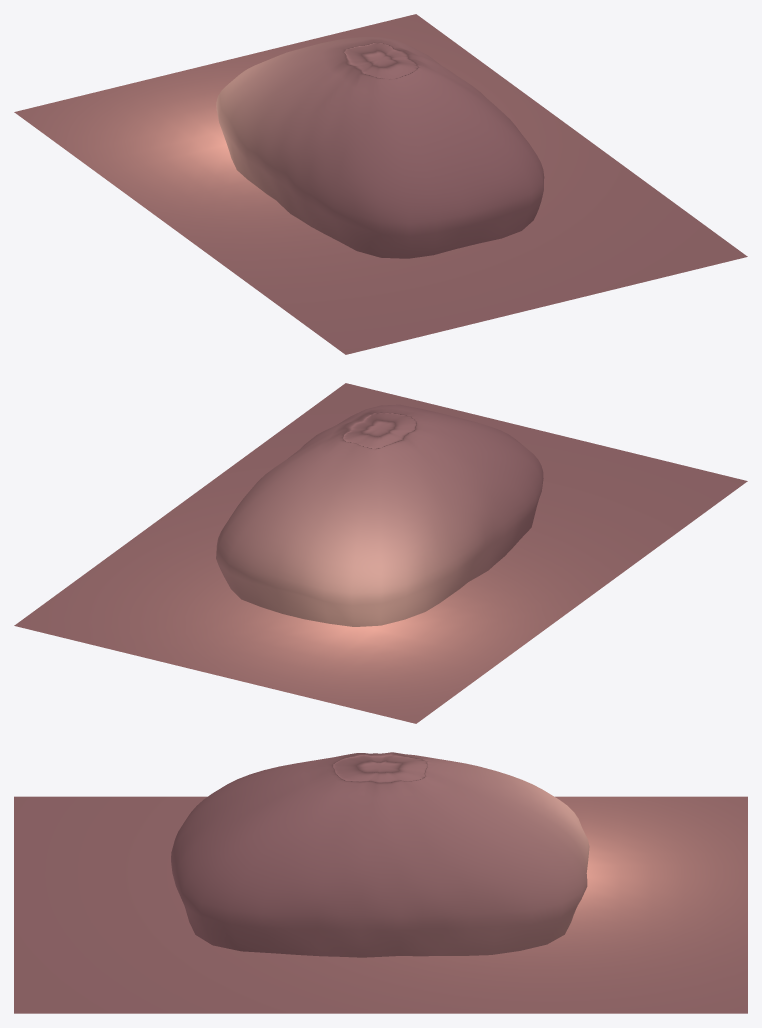
The model's file is env.glb.
The picture shows the model from 3 angles, top to bottom: view 1: azimuth 30°, elevation 25°; view 2: azimuth 150°, elevation 25°; view 3: azimuth 270°, elevation 25°; orthographic projection. The views are drawn at different scales.
Visible parts, largest first — view 1: flesh_floor, enclosure; view 2: flesh_floor, enclosure; view 3: flesh_floor, enclosure.
Part boxes in pixels (x1,y1,x2,y2): flesh_floor: (14, 14, 747, 354); enclosure: (216, 37, 544, 258); flesh_floor: (14, 383, 747, 723); enclosure: (216, 404, 543, 626); flesh_floor: (14, 796, 747, 1013); enclosure: (171, 752, 589, 957).
Bounding box in the file's own units: 84 × 24.98 × 120.
